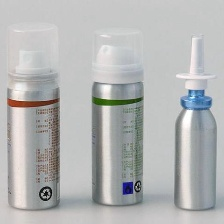aerosol_cans: (85, 22, 149, 209), (3, 19, 62, 212)
bottle: (169, 29, 220, 214)
